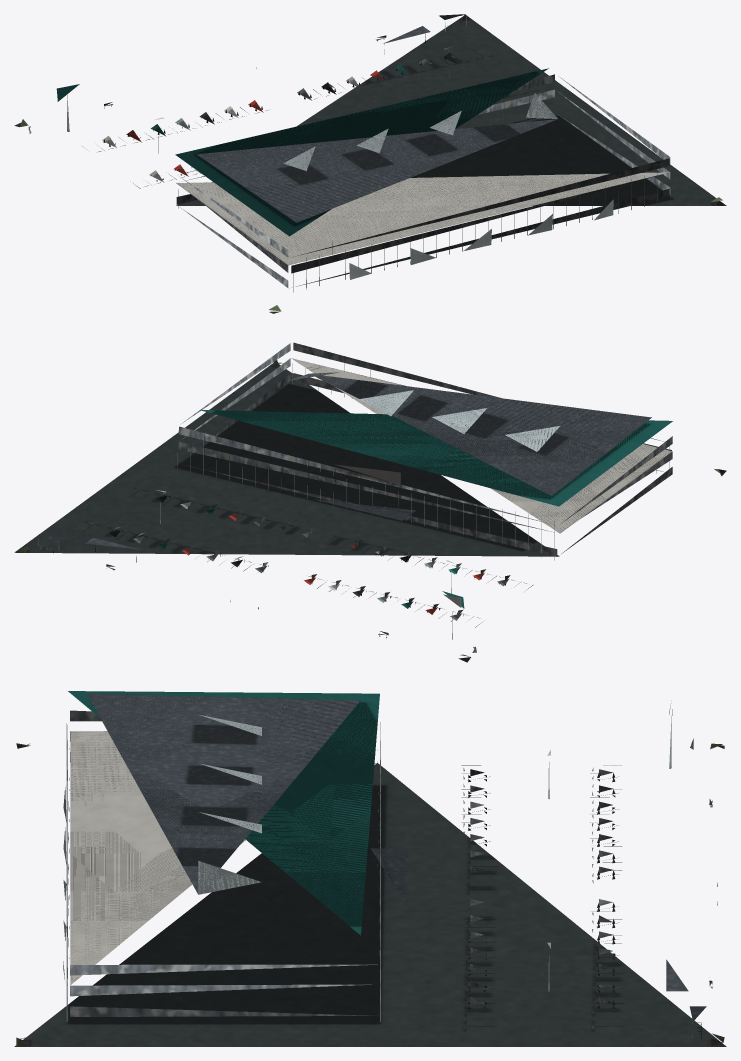
Rendered from shopping_mall_001.lod2.obj.
3 renders of one model, top to bottom at view 1: azimuth 30°, elevation 25°; view 2: azimuth 150°, elevation 25°; view 3: azimuth 270°, elevation 25°, orthographic. The views are drawn at different scales.
Parts seen in each view (by area): view 1: shopping_mall_001; view 2: shopping_mall_001; view 3: shopping_mall_001.
Boxes of the visible parts, left/top/right/bottom form: shopping_mall_001: left=14, top=14, right=726, bottom=313; shopping_mall_001: left=14, top=342, right=726, bottom=662; shopping_mall_001: left=14, top=691, right=726, bottom=1046.
Size of the model in its own units: 112 by 16.9 by 112.
1 material, 1 textured.
